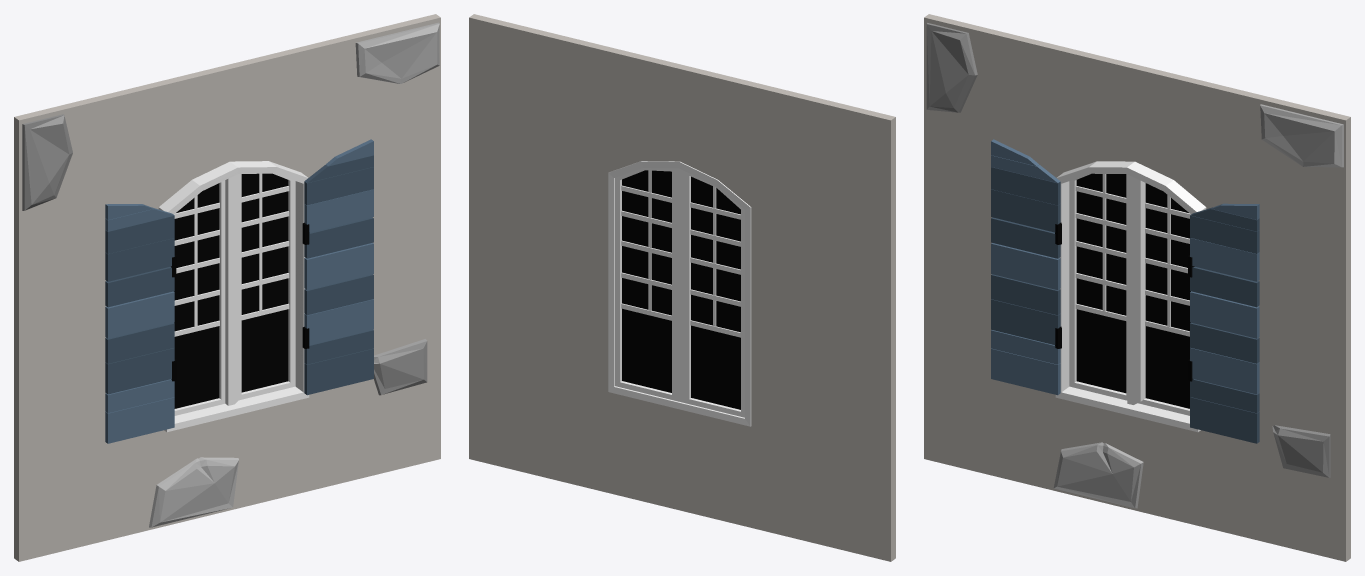
The model's file is _WINDOW_04_1.fbx.
The picture shows the model from 3 angles, left to right: view 1: azimuth 30°, elevation 25°; view 2: azimuth 150°, elevation 25°; view 3: azimuth 330°, elevation 25°; orthographic projection.
Parts seen in each view (by area): view 1: WINDOW_04_1; view 2: WINDOW_04_1; view 3: WINDOW_04_1.
Part boxes in pixels (bbox=[...]): WINDOW_04_1: bbox=[14, 14, 440, 561]; WINDOW_04_1: bbox=[469, 14, 895, 561]; WINDOW_04_1: bbox=[924, 14, 1350, 561].
Bounding box in the file's own units: 300 × 300 × 20.96.
